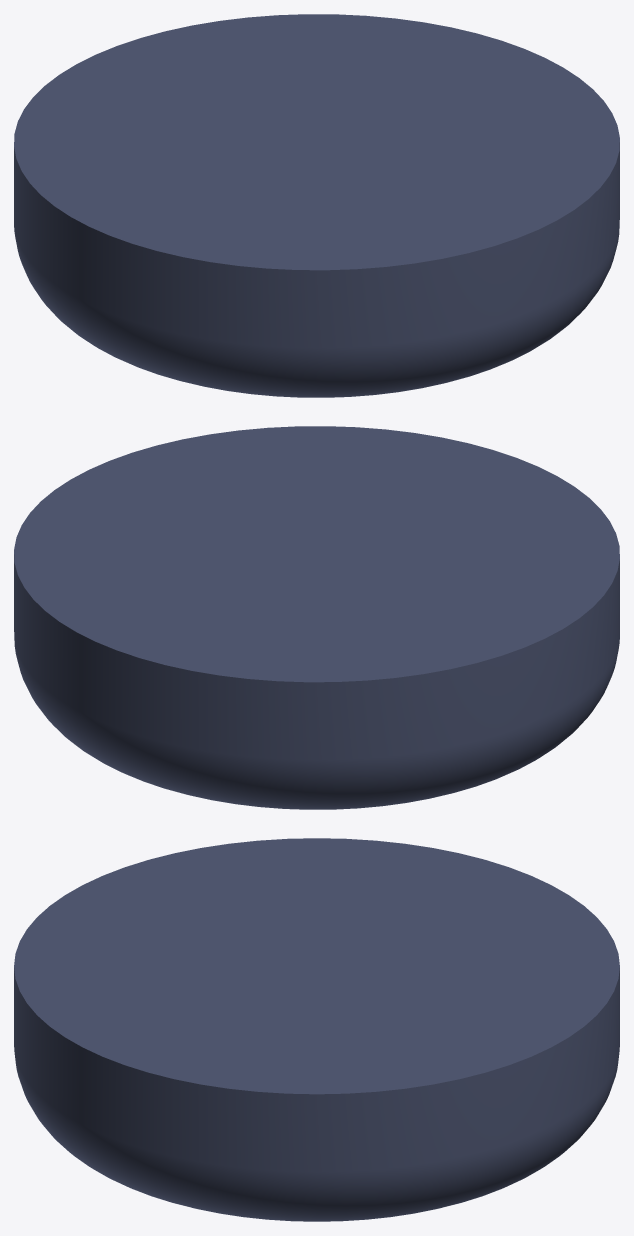
3 views of the same model, one above another, from view 1: azimuth 30°, elevation 25°; view 2: azimuth 150°, elevation 25°; view 3: azimuth 270°, elevation 25° (orthographic).
Parts seen in each view (by area): view 1: 墙壁; view 2: 墙壁; view 3: 墙壁.
Boxes of the visible parts, bbox=[...] form: 墙壁: bbox=[14, 14, 619, 397]; 墙壁: bbox=[14, 426, 619, 809]; 墙壁: bbox=[14, 838, 619, 1221].
Bounding box in the file's own units: 707 × 201 × 707.
